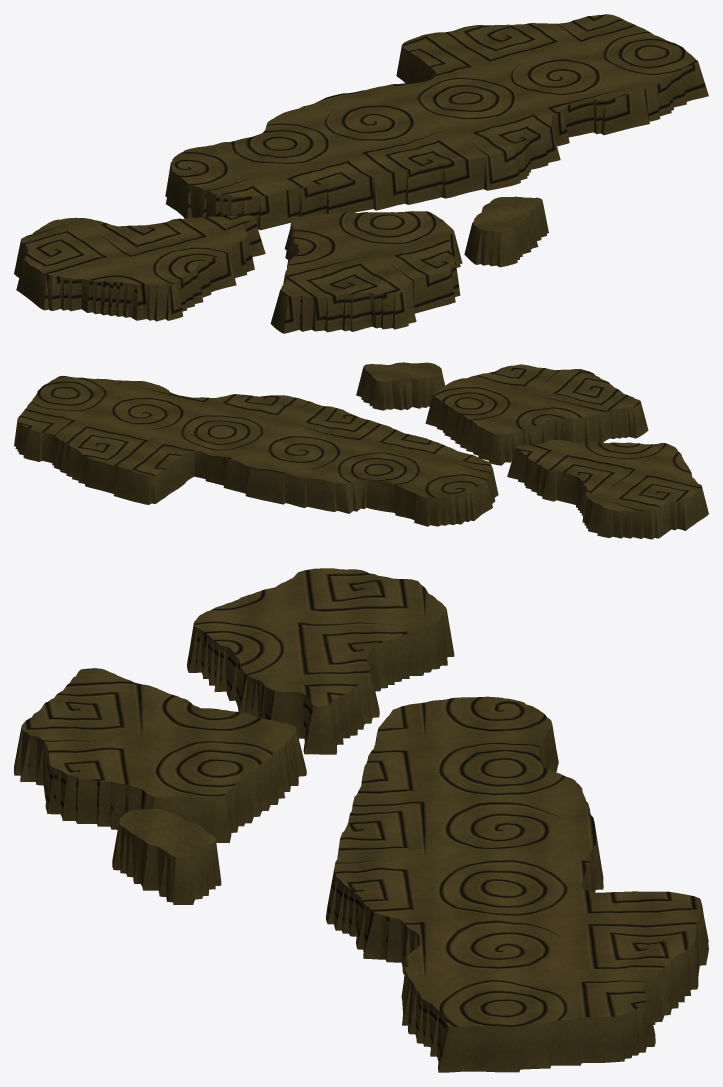
File: CREHenge04.glb
3 renders of one model, top to bottom at view 1: azimuth 30°, elevation 25°; view 2: azimuth 150°, elevation 25°; view 3: azimuth 270°, elevation 25°, orthographic. The views are drawn at different scales.
Visible parts, largest first — view 1: CREHenge04_tops; view 2: CREHenge04_tops; view 3: CREHenge04_tops.
Part boxes in pixels (x1,y1,x2,y2): CREHenge04_tops: (14, 14, 708, 333); CREHenge04_tops: (14, 362, 708, 539); CREHenge04_tops: (14, 568, 708, 1072).
Size of the model in its own units: 9.21 by 0.4322 by 5.84.
2 materials, 2 textured.
